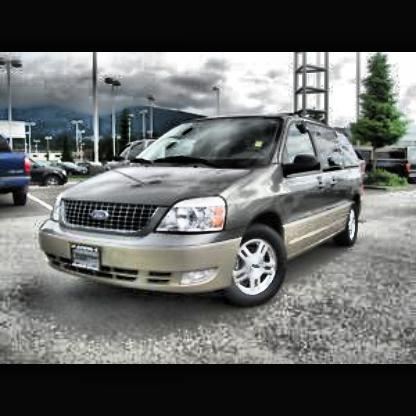Ford Freestar Minivan 2007: (40, 117, 365, 306)
